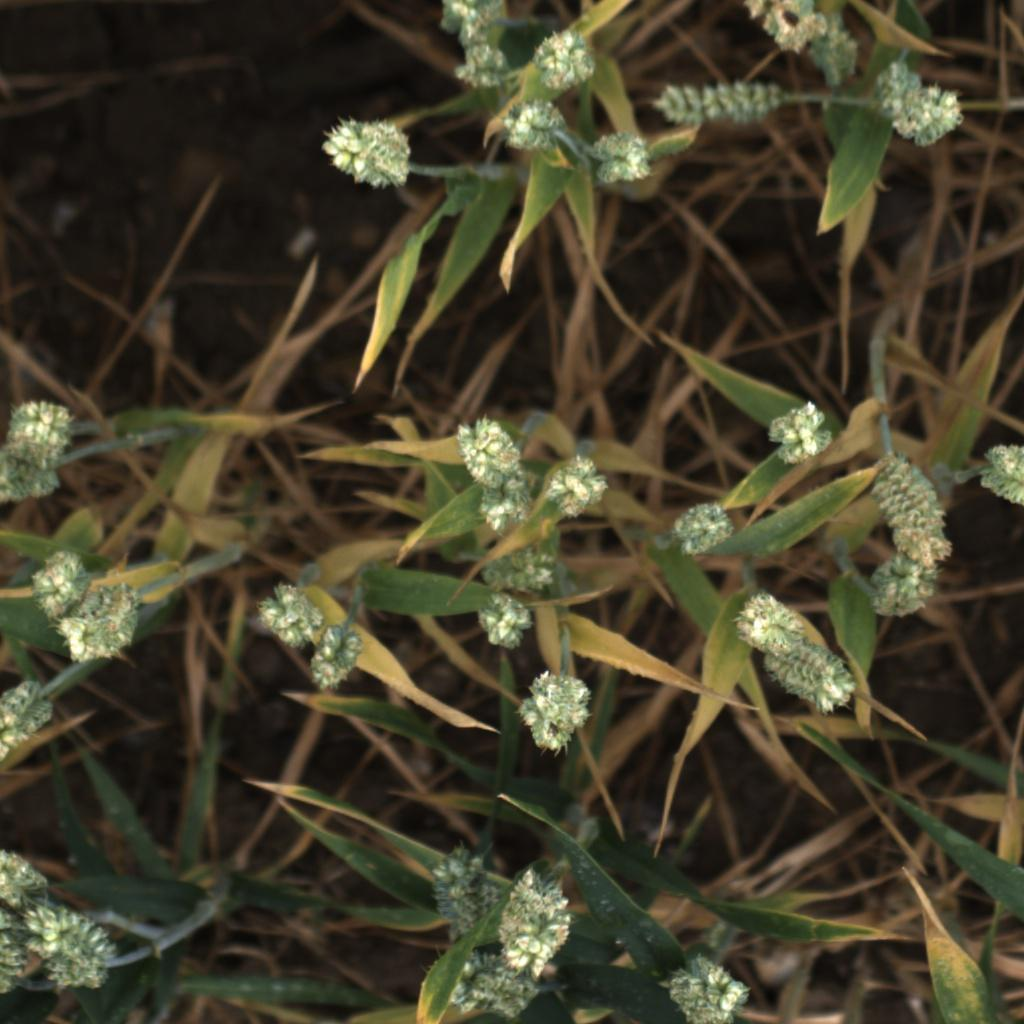0-0: (506, 655, 594, 761), (871, 456, 955, 567), (490, 868, 576, 975), (23, 900, 115, 999), (874, 55, 970, 149), (58, 575, 147, 670), (765, 638, 860, 723), (316, 114, 416, 192), (658, 946, 752, 1024), (651, 77, 787, 128), (425, 841, 499, 931), (450, 408, 524, 496), (450, 957, 548, 1021), (761, 396, 839, 468), (728, 587, 808, 656), (0, 393, 81, 461), (865, 552, 942, 622), (249, 578, 324, 649), (736, 0, 832, 55), (475, 541, 566, 599), (539, 450, 614, 520), (529, 26, 601, 95), (663, 500, 739, 564), (303, 627, 370, 697), (584, 128, 657, 192), (0, 679, 51, 769), (0, 447, 70, 512), (24, 544, 85, 618), (493, 98, 569, 157), (472, 479, 542, 538), (811, 23, 865, 94), (976, 437, 1024, 514), (480, 594, 535, 660), (0, 906, 40, 993), (447, 39, 511, 92), (434, 0, 515, 41), (0, 843, 48, 906)
